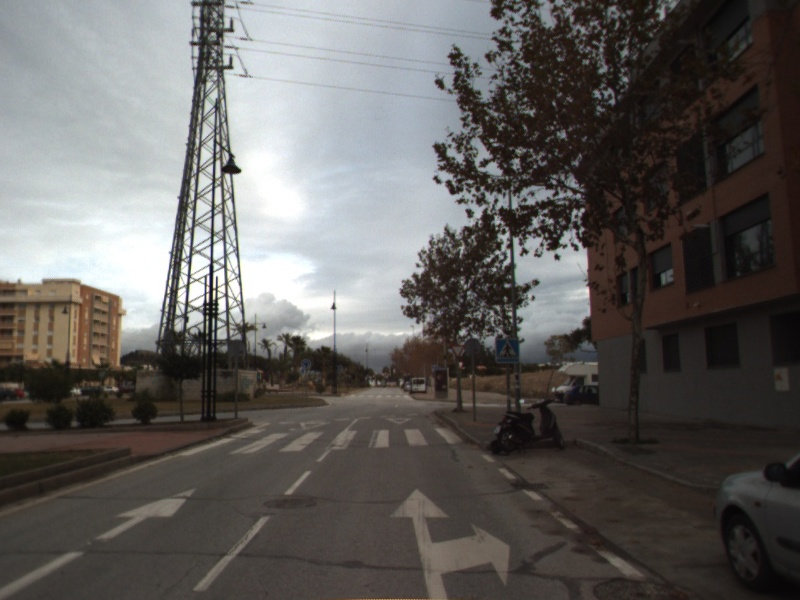STRAIGHT: (1, 486, 198, 600)
STRAIGHT_RIGHT: (388, 487, 512, 600)
